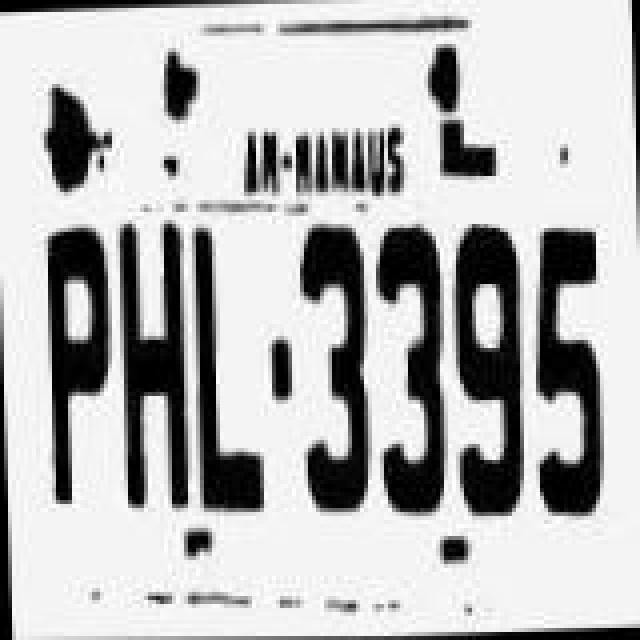3: (366, 214, 454, 518), (288, 218, 372, 514)
5: (518, 224, 622, 528)
9: (446, 216, 534, 520)
H: (110, 216, 198, 500)
L: (182, 224, 270, 516)
P: (34, 222, 122, 498)
